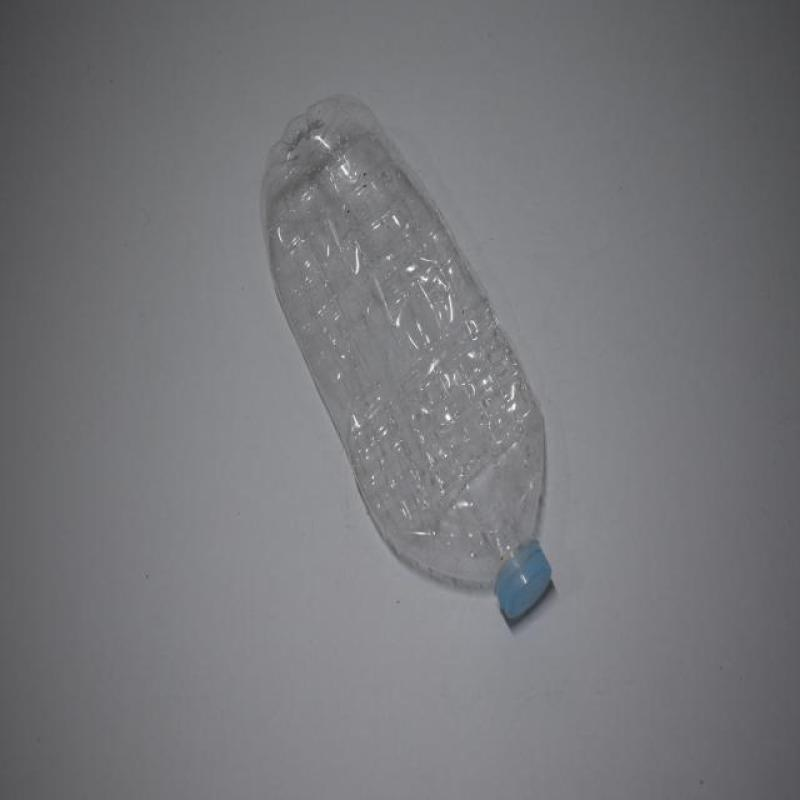botella: (260, 90, 566, 626)
